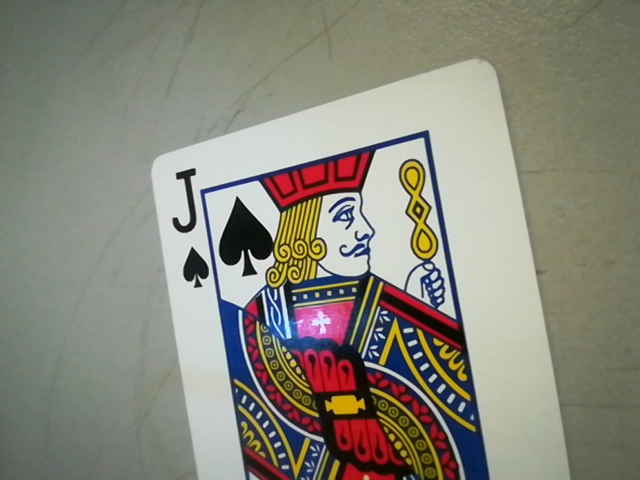ht j: (164, 155, 214, 296)
